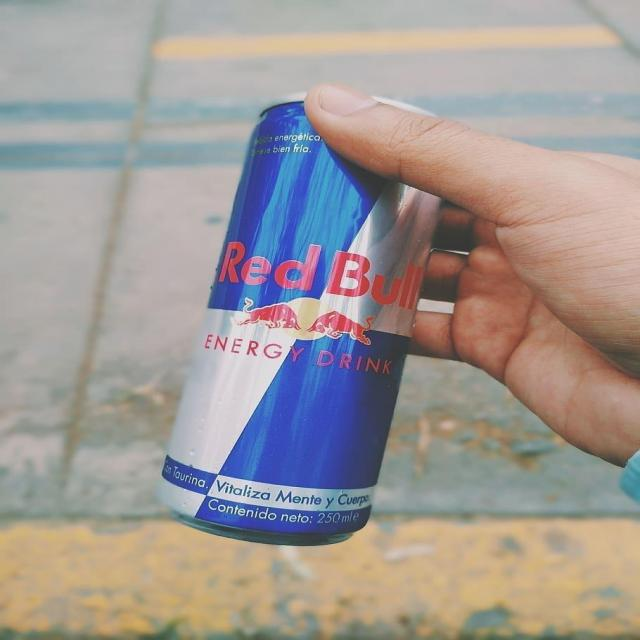tin can: (155, 88, 447, 546)
